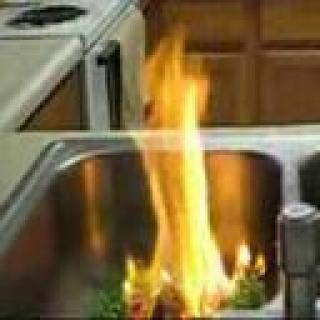fire: (123, 20, 251, 315)
